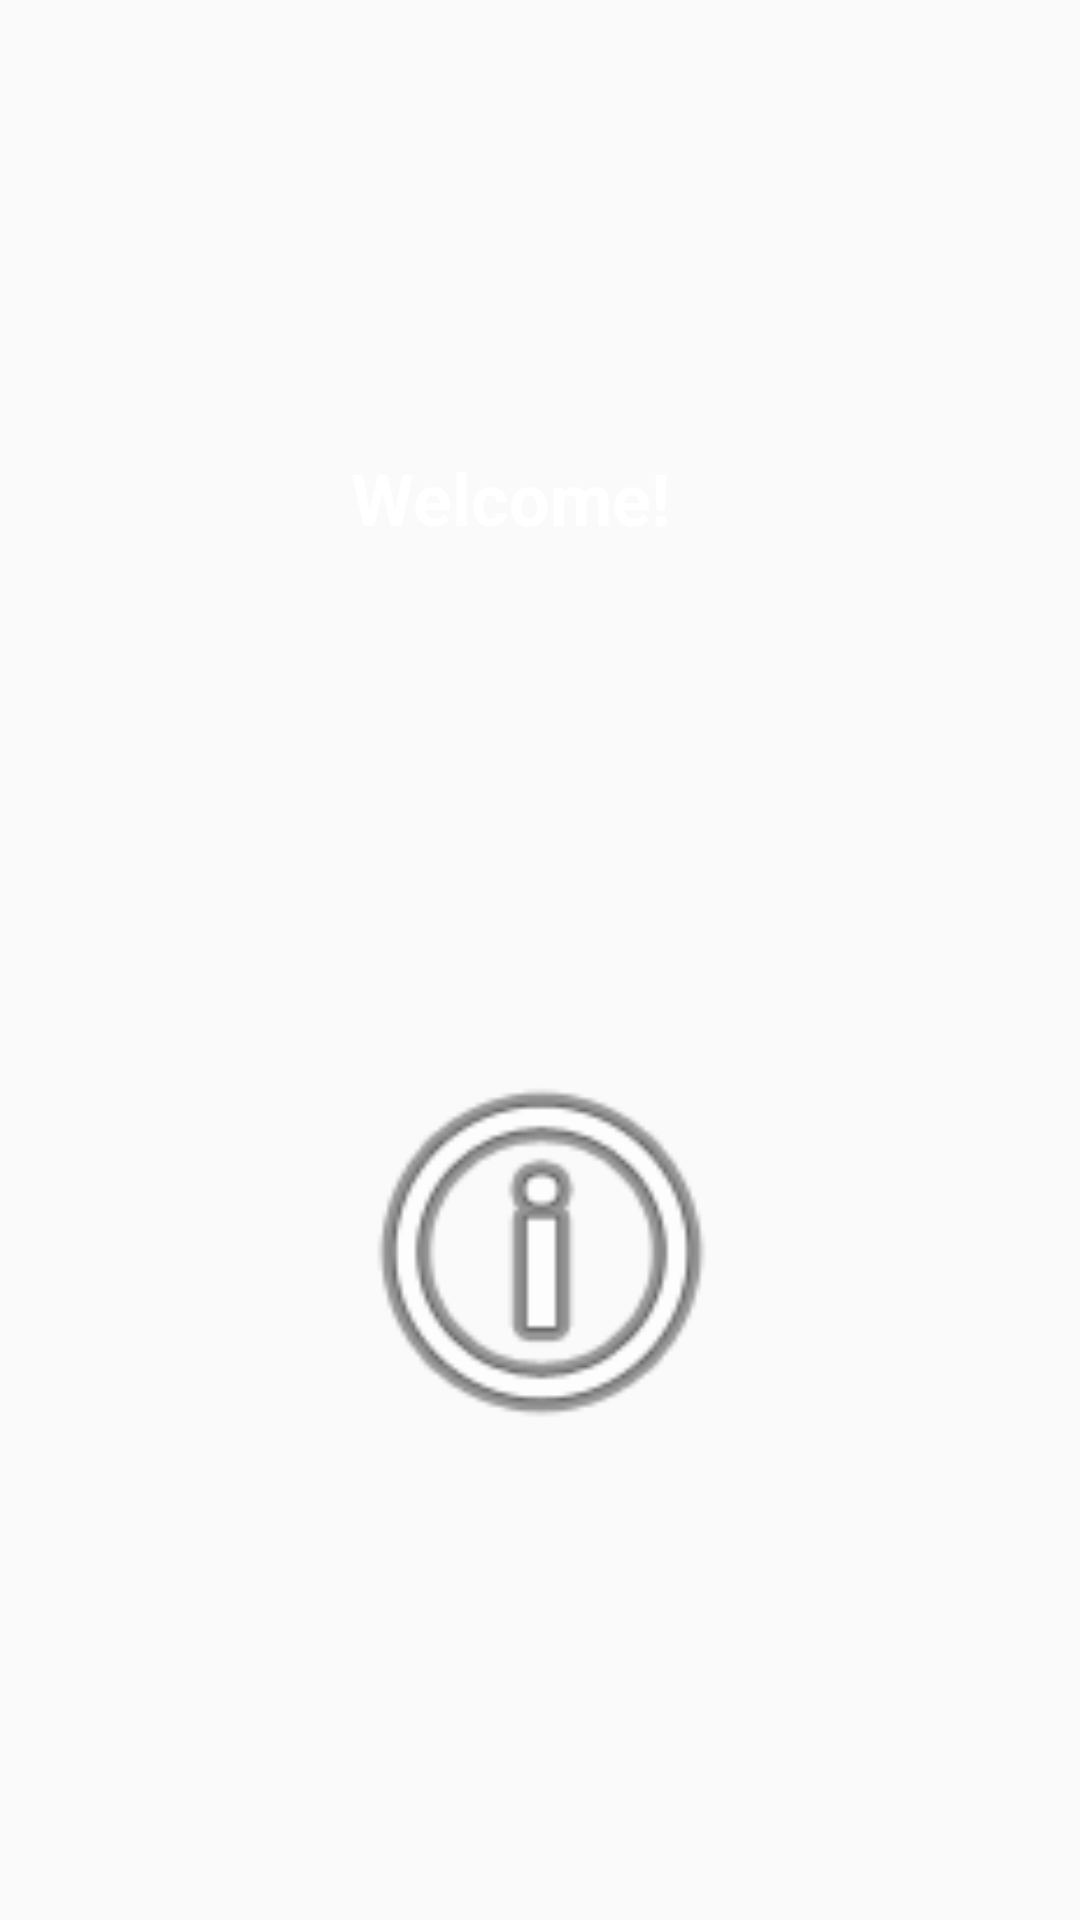

Named icons in this screenshot (1080 × 1920) and their centers, point (x, y):
info details: point (541, 1252)
